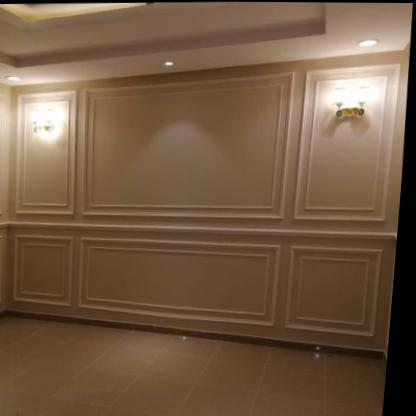Futec frame: (75, 64, 303, 335), (284, 55, 410, 351), (0, 82, 96, 331)
